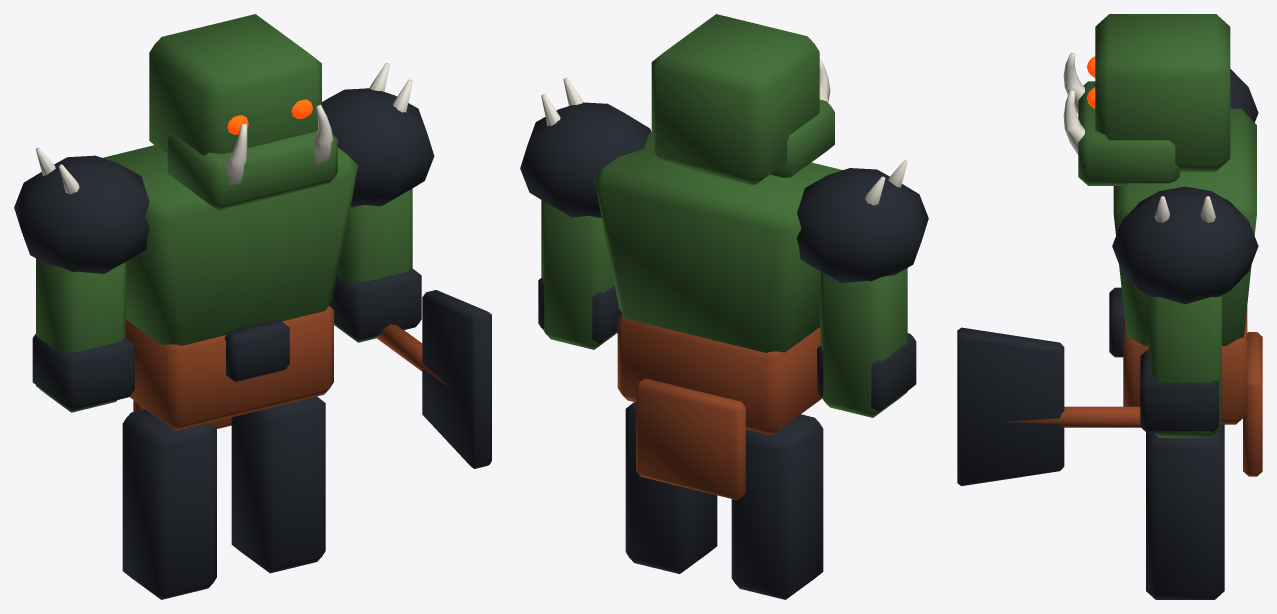
Rendered from orc.glb.
The picture shows the model from 3 angles, left to right: view 1: azimuth 30°, elevation 25°; view 2: azimuth 150°, elevation 25°; view 3: azimuth 270°, elevation 25°; orthographic projection. The views are drawn at different scales.
Parts seen in each view (by area): view 1: Body, Head, LeftLeg, RightLeg, LeftArm, Weapon, RightArm; view 2: Body, Head, LeftLeg, LeftArm, Tail, RightArm, RightLeg; view 3: Body, Head, Weapon, RightLeg, RightArm, Tail.
Boxes of the visible parts, bbox=[...] form: Body: bbox=[14, 63, 434, 430]; Head: bbox=[149, 14, 337, 210]; LeftLeg: bbox=[122, 409, 216, 599]; RightLeg: bbox=[231, 396, 325, 573]; LeftArm: bbox=[32, 258, 134, 412]; Weapon: bbox=[375, 290, 491, 468]; RightArm: bbox=[329, 188, 421, 342]; Body: bbox=[520, 78, 928, 435]; Head: bbox=[651, 14, 834, 185]; LeftLeg: bbox=[731, 414, 823, 599]; LeftArm: bbox=[817, 268, 916, 417]; Tail: bbox=[636, 378, 745, 499]; RightArm: bbox=[538, 200, 622, 349]; RightLeg: bbox=[625, 402, 717, 573]; Body: bbox=[1109, 69, 1258, 424]; Head: bbox=[1063, 14, 1230, 185]; Weapon: bbox=[957, 327, 1140, 486]; RightLeg: bbox=[1146, 424, 1224, 599]; RightArm: bbox=[1140, 295, 1221, 437]; Tail: bbox=[1243, 332, 1262, 476].
Size of the model in its own units: 1.64 by 2.06 by 1.08.
